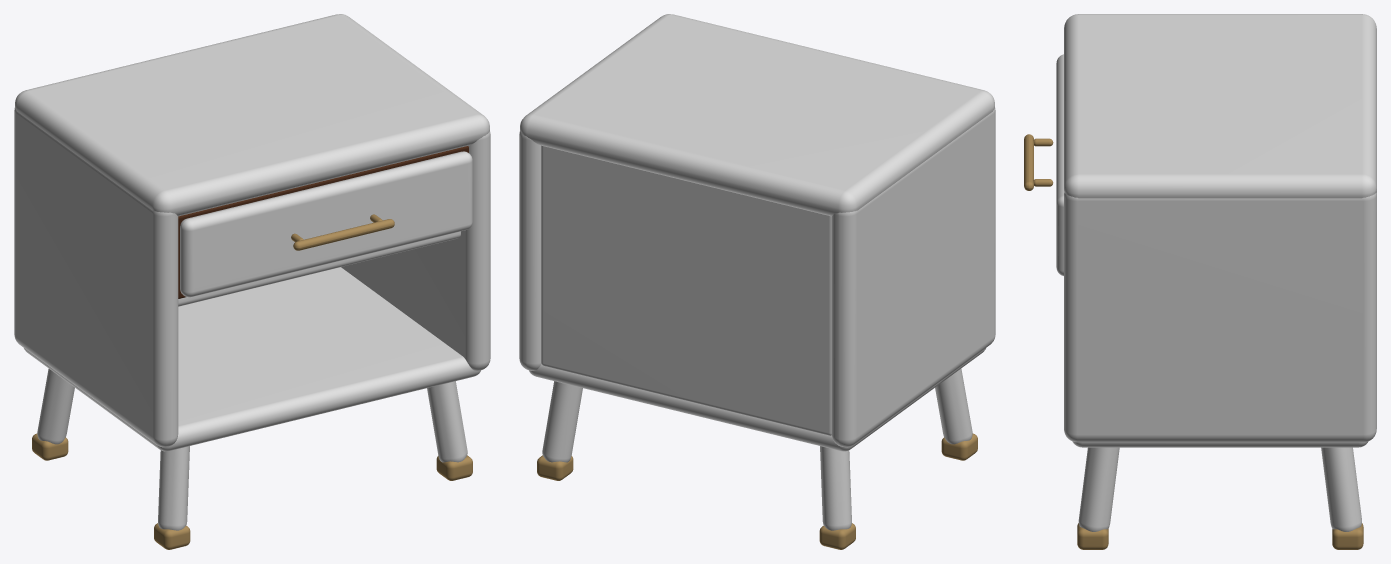
The model's file is nightstand.glb.
The picture shows the model from 3 angles, left to right: view 1: azimuth 30°, elevation 25°; view 2: azimuth 150°, elevation 25°; view 3: azimuth 270°, elevation 25°; orthographic projection. The views are drawn at different scales.
Visible parts, largest first — view 1: Rounded walnut top, Rounded walnut case side, Solid walnut lower shelf, Inset walnut drawer front, Rounded walnut case side.001, Short splayed walnut foot, Short splayed walnut foot.002, Drawer support shelf, Short splayed walnut foot.001, Drawer shadow reveal, Rounded brass drawer pull, Brass foot cap (+2 smaller); view 2: Recessed walnut rear panel, Rounded walnut top, Rounded walnut case side, Rounded walnut case side.001, Solid walnut lower shelf, Short splayed walnut foot.001, Short splayed walnut foot.003, Short splayed walnut foot, Brass foot cap.001, Brass foot cap.003, Brass foot cap; view 3: Rounded walnut case side.001, Rounded walnut top, Short splayed walnut foot.002, Short splayed walnut foot.003, Inset walnut drawer front, Solid walnut lower shelf, Brass foot cap.002, Brass foot cap.003, Rounded brass drawer pull.
Boxes of the visible parts, bbox=[...] form: Rounded walnut top: bbox=[15, 14, 489, 216]; Rounded walnut case side: bbox=[14, 108, 178, 447]; Solid walnut lower shelf: bbox=[24, 267, 480, 451]; Inset walnut drawer front: bbox=[180, 151, 472, 297]; Rounded walnut case side.001: bbox=[341, 131, 490, 370]; Short splayed walnut foot: bbox=[158, 446, 189, 530]; Short splayed walnut foot.002: bbox=[427, 381, 467, 462]; Drawer support shelf: bbox=[178, 231, 460, 306]; Short splayed walnut foot.001: bbox=[37, 369, 74, 444]; Drawer shadow reveal: bbox=[178, 146, 468, 298]; Rounded brass drawer pull: bbox=[293, 219, 394, 250]; Brass foot cap: bbox=[154, 523, 190, 549]; Recessed walnut rear panel: bbox=[541, 145, 831, 435]; Rounded walnut top: bbox=[520, 14, 994, 216]; Rounded walnut case side: bbox=[831, 108, 995, 447]; Rounded walnut case side.001: bbox=[519, 131, 541, 370]; Solid walnut lower shelf: bbox=[529, 348, 985, 451]; Short splayed walnut foot.001: bbox=[820, 446, 851, 530]; Short splayed walnut foot.003: bbox=[542, 381, 582, 462]; Short splayed walnut foot: bbox=[935, 369, 972, 444]; Brass foot cap.001: bbox=[819, 523, 855, 549]; Brass foot cap.003: bbox=[537, 455, 573, 480]; Brass foot cap: bbox=[941, 433, 977, 460]; Rounded walnut case side.001: bbox=[1064, 192, 1376, 442]; Rounded walnut top: bbox=[1064, 14, 1376, 198]; Short splayed walnut foot.002: bbox=[1078, 447, 1119, 531]; Short splayed walnut foot.003: bbox=[1321, 447, 1361, 531]; Inset walnut drawer front: bbox=[1056, 54, 1064, 275]; Solid walnut lower shelf: bbox=[1072, 441, 1368, 447]; Brass foot cap.002: bbox=[1077, 523, 1108, 549]; Brass foot cap.003: bbox=[1332, 523, 1363, 549]; Rounded brass drawer pull: bbox=[1024, 134, 1033, 190].
Size of the model in its own units: 0.57 by 0.5875 by 0.496.
